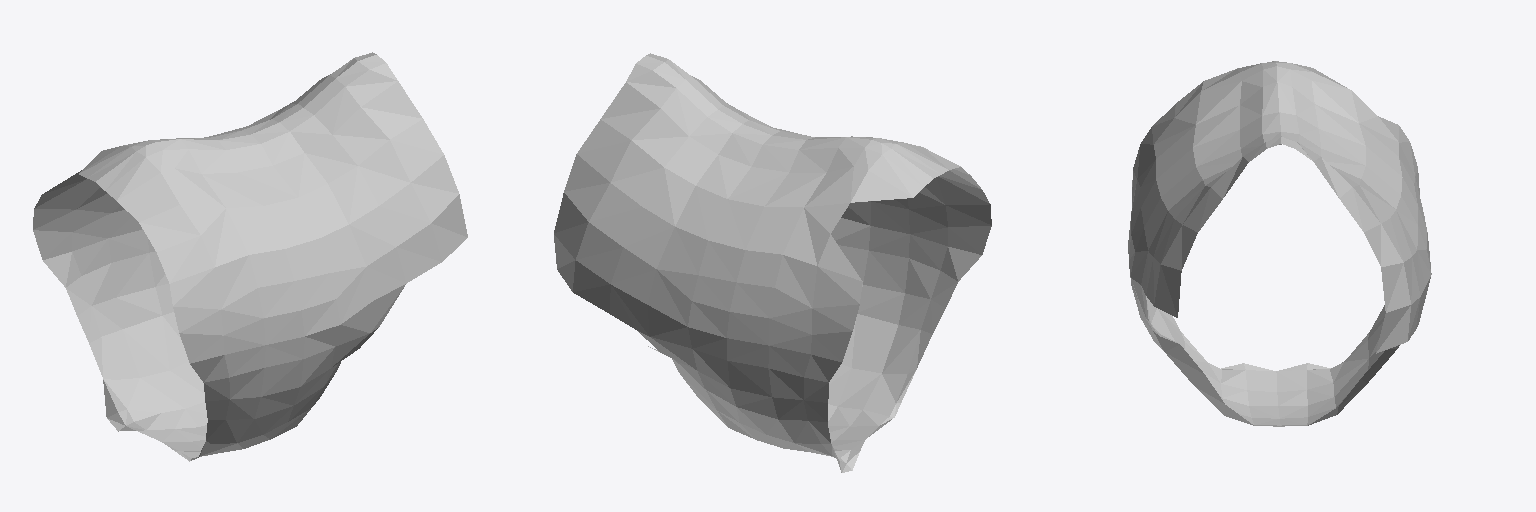
The model's file is torso.obj.
3 views of the same model, side by side, from view 1: azimuth 30°, elevation 25°; view 2: azimuth 150°, elevation 25°; view 3: azimuth 270°, elevation 25° (orthographic).
Visible parts, largest first — view 1: torso; view 2: torso; view 3: torso.
Boxes of the visible parts, x1,y1,x2,y2 form: torso: [33, 52, 467, 461]; torso: [554, 53, 991, 472]; torso: [1128, 61, 1431, 426].
Size of the model in its own units: 22.25 by 22.34 by 17.91.